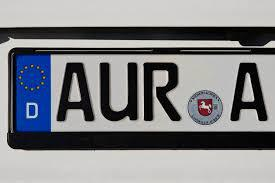A: (229, 61, 270, 123), (57, 60, 94, 125)
R: (139, 59, 183, 124)
U: (95, 60, 142, 122)
